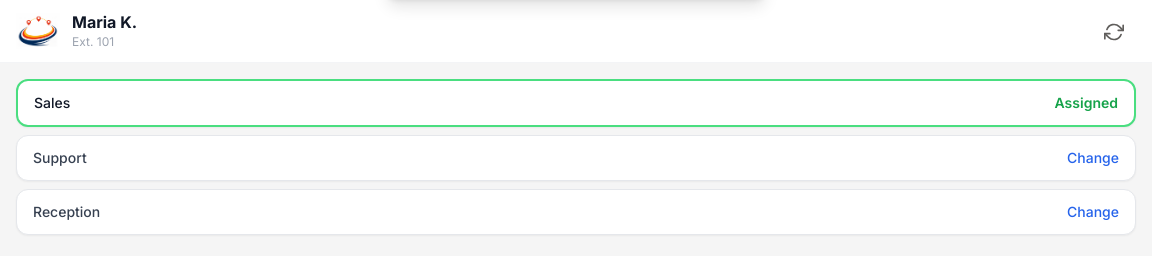
Test: DepartmentsPage › cancel hides confirm/cancel buttons
Click the button "Support Change" at (60, 158), box [16,135,1136,181]
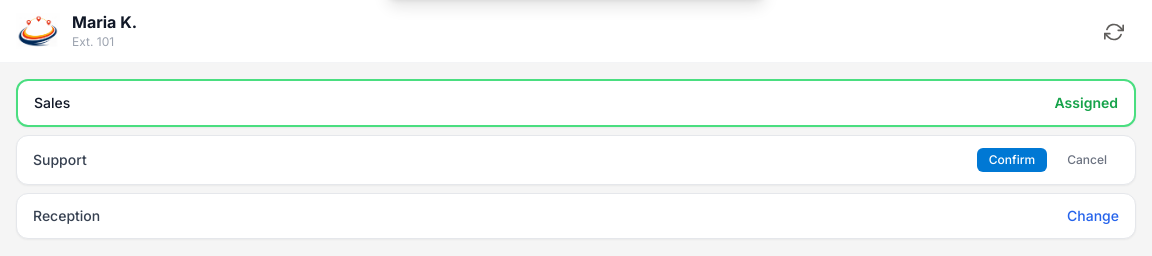
Expected: the button "Confirm" is shown, [977,148,1047,172]
Click the button "Cancel" at (1087, 160), box [1055,148,1119,172]
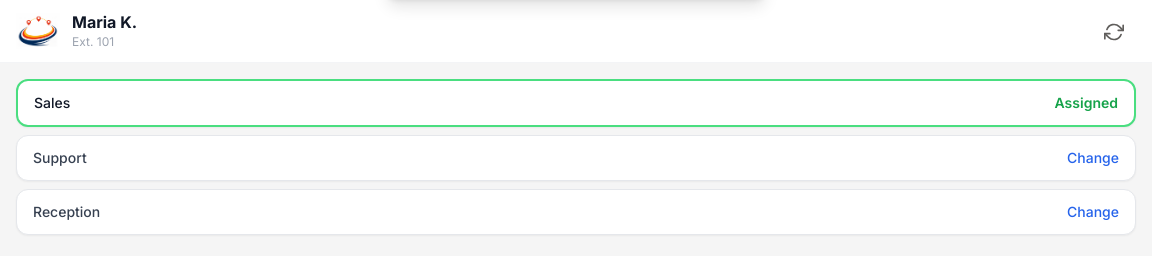
Expected: the button "Confirm" is gone
